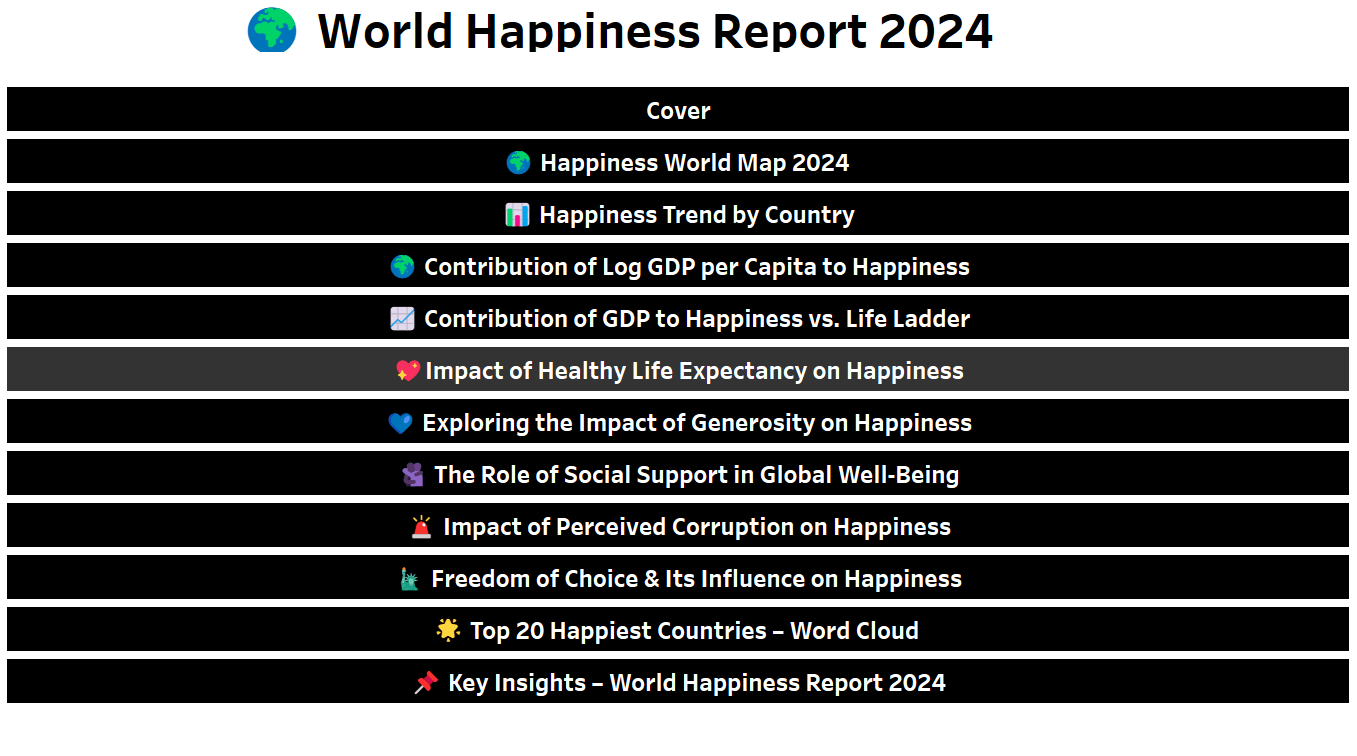

Layout of this report page (visuals, bound fields, positions):
{"tool":"tableau","page":{"name":"Menu","canvas":[1366,768],"ordinal":7},"visuals":[{"type":"blank","box":[8,8,1350,33]},{"type":"text","box":[61,10,1120,47]},{"type":"blank","box":[8,41,1350,47]},{"type":"dashboard-object","box":[8,88,1350,52]},{"type":"dashboard-object","box":[8,140,1350,52]},{"type":"dashboard-object","box":[8,192,1350,52]},{"type":"dashboard-object","box":[8,244,1350,52]},{"type":"dashboard-object","box":[8,296,1350,52]},{"type":"dashboard-object","box":[8,348,1350,52]},{"type":"dashboard-object","box":[8,400,1350,52]},{"type":"dashboard-object","box":[8,452,1350,52]},{"type":"dashboard-object","box":[8,504,1350,52]},{"type":"dashboard-object","box":[8,556,1350,52]},{"type":"dashboard-object","box":[8,608,1350,52]},{"type":"dashboard-object","box":[8,660,1350,52]}]}

Visuals, with their boxes in screenshot pixels (x1, y1, x2, y2), scaled from the page's 1366x768 canvas onto the 1357x756 screenshot:
blank: region(8, 8, 1349, 40)
text: region(61, 10, 1173, 56)
blank: region(8, 40, 1349, 87)
dashboard-object: region(8, 87, 1349, 138)
dashboard-object: region(8, 138, 1349, 189)
dashboard-object: region(8, 189, 1349, 240)
dashboard-object: region(8, 240, 1349, 291)
dashboard-object: region(8, 291, 1349, 343)
dashboard-object: region(8, 343, 1349, 394)
dashboard-object: region(8, 394, 1349, 445)
dashboard-object: region(8, 445, 1349, 496)
dashboard-object: region(8, 496, 1349, 547)
dashboard-object: region(8, 547, 1349, 598)
dashboard-object: region(8, 598, 1349, 650)
dashboard-object: region(8, 650, 1349, 701)
